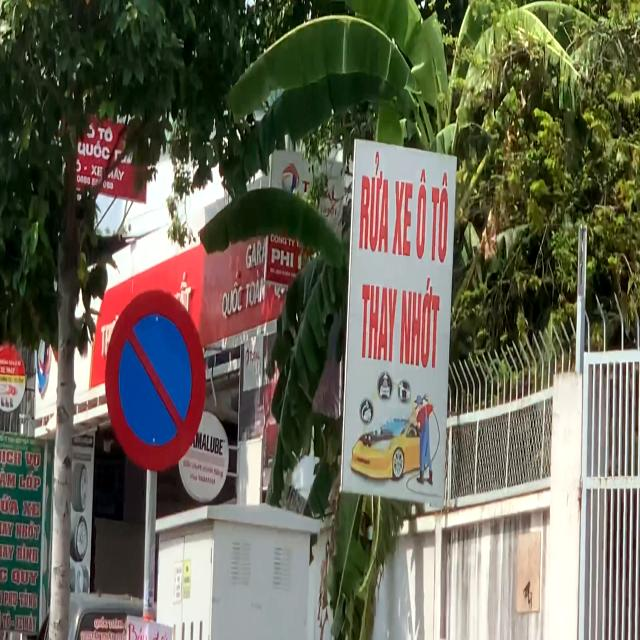P.131a: (105, 288, 206, 474)
